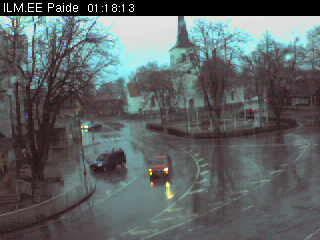car: (91, 149, 126, 173), (148, 154, 171, 180), (81, 119, 101, 130)
